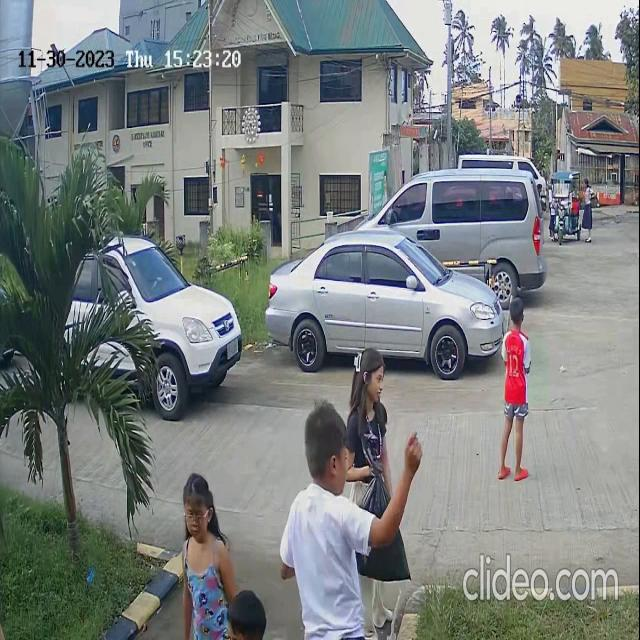person: (292, 413, 361, 600), (169, 479, 226, 608), (345, 346, 393, 463), (502, 303, 530, 399)
